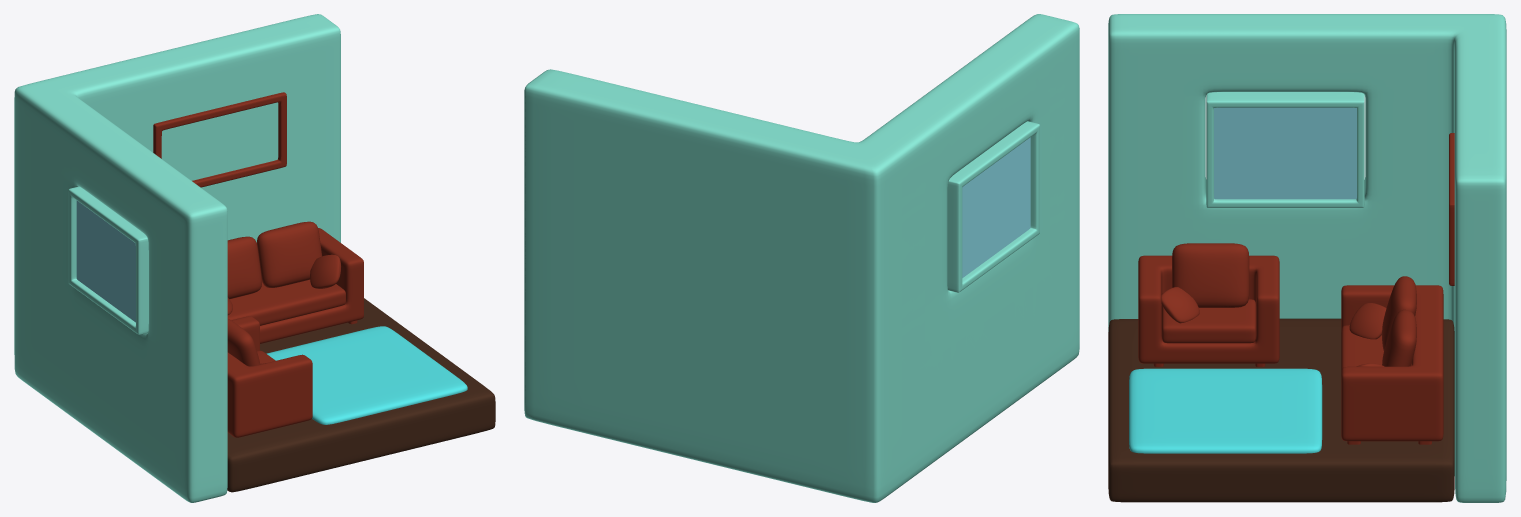
Rendered from 3dlivingroom.gltf.
3 views of the same model, side by side, from view 1: azimuth 30°, elevation 25°; view 2: azimuth 150°, elevation 25°; view 3: azimuth 270°, elevation 25° (orthographic). The views are drawn at different scales.
Visible parts, largest first — view 1: walls, floor, Cube, couch, couch.001, window_glass, window, cushion.001, picture frame, cushion, cushion.002, pillow.001; view 2: walls, window_glass, window; view 3: walls, floor, Cube, window_glass, couch, couch.001, window, cushion.002, cushion.001, cushion, pillow, pillow.002 (+1 smaller).
Part boxes in pixels (x1,y1,x2,y2): walls: [14, 14, 340, 502]; floor: [227, 298, 495, 492]; Cube: [266, 326, 467, 424]; couch: [227, 228, 363, 343]; couch.001: [227, 316, 312, 437]; window_glass: [76, 200, 135, 322]; window: [68, 186, 148, 334]; cushion.001: [257, 221, 321, 287]; picture frame: [153, 92, 286, 187]; cushion: [227, 236, 261, 299]; cushion.002: [227, 318, 260, 366]; pillow.001: [310, 254, 341, 288]; walls: [524, 14, 1079, 502]; window_glass: [962, 137, 1030, 277]; window: [947, 121, 1039, 292]; walls: [1108, 14, 1506, 502]; floor: [1108, 318, 1454, 502]; Cube: [1129, 368, 1322, 453]; window_glass: [1214, 107, 1356, 199]; couch: [1341, 285, 1443, 441]; couch.001: [1138, 255, 1279, 363]; window: [1206, 92, 1364, 207]; cushion.002: [1172, 243, 1249, 307]; cushion.001: [1382, 309, 1416, 366]; cushion: [1382, 276, 1416, 350]; pillow: [1349, 303, 1386, 339]; pillow.002: [1161, 287, 1199, 323].
Size of the model in its own units: 3.59 by 3.16 by 3.51.
